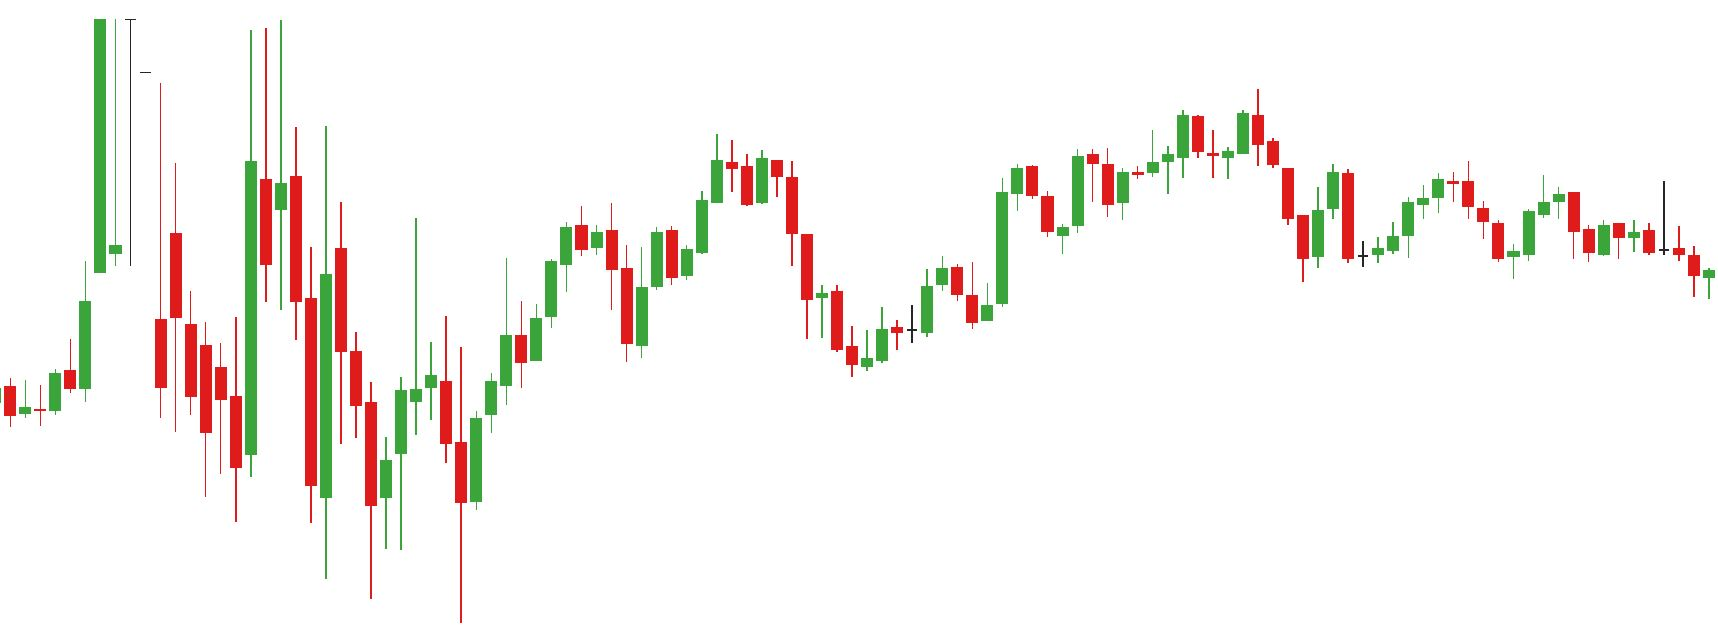buy: (363, 388, 482, 626)
sell: (1176, 91, 1265, 170)
